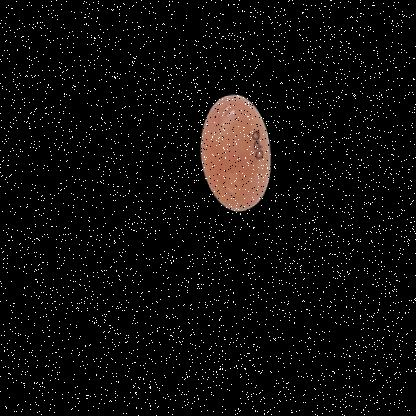opiqutan: (183, 77, 295, 232)
